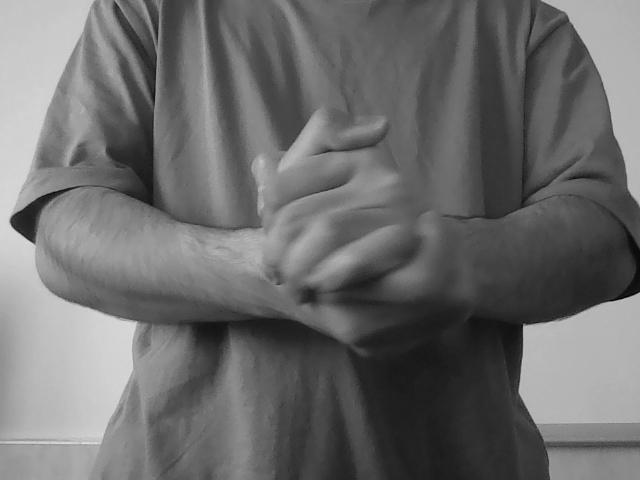friend: (242, 102, 479, 354)
